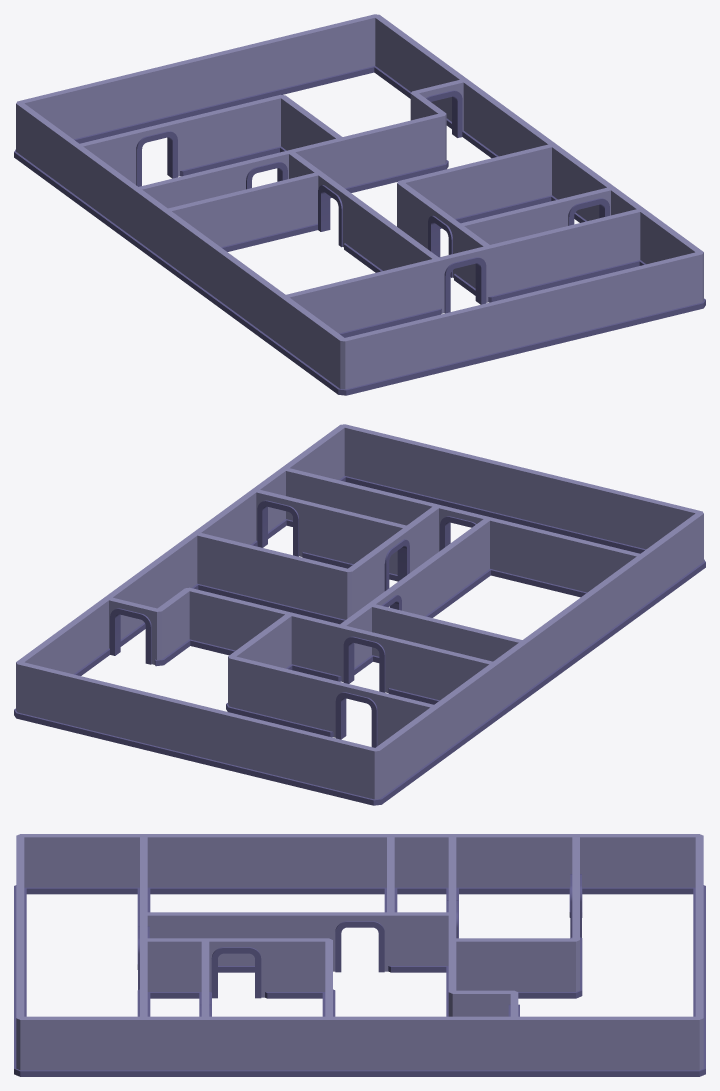
Rendered from KillHouse.fbx.
3 views of the same model, one above another, from view 1: azimuth 30°, elevation 25°; view 2: azimuth 150°, elevation 25°; view 3: azimuth 270°, elevation 25° (orthographic). The views are drawn at different scales.
Visible parts, largest first — view 1: mergedBlocks; view 2: mergedBlocks; view 3: mergedBlocks.
Part boxes in pixels (x1,y1,x2,y2): mergedBlocks: (14,14,705,395); mergedBlocks: (14,424,705,805); mergedBlocks: (14,834,705,1076).
Bounding box in the file's own units: 72.05 × 10 × 112.
